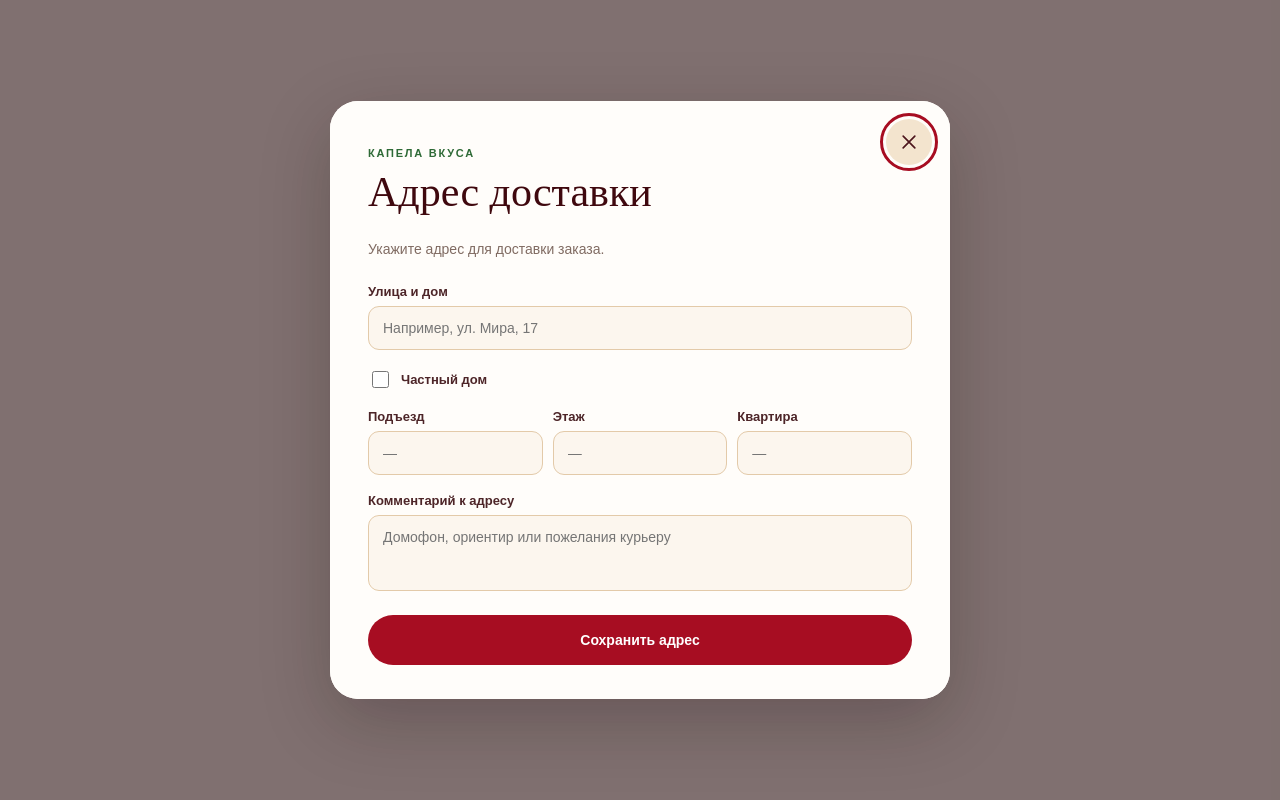
Scenario: не сохраняет адрес с буквами в подъезде и сбрасывает ошибку после исправления
This screenshot has width=1280, height=800.
Later steps or results of the test are not shown.
In the field labelled "Улица и дом": (640, 328) [368,306,912,350], type "ул. Мира, 10"
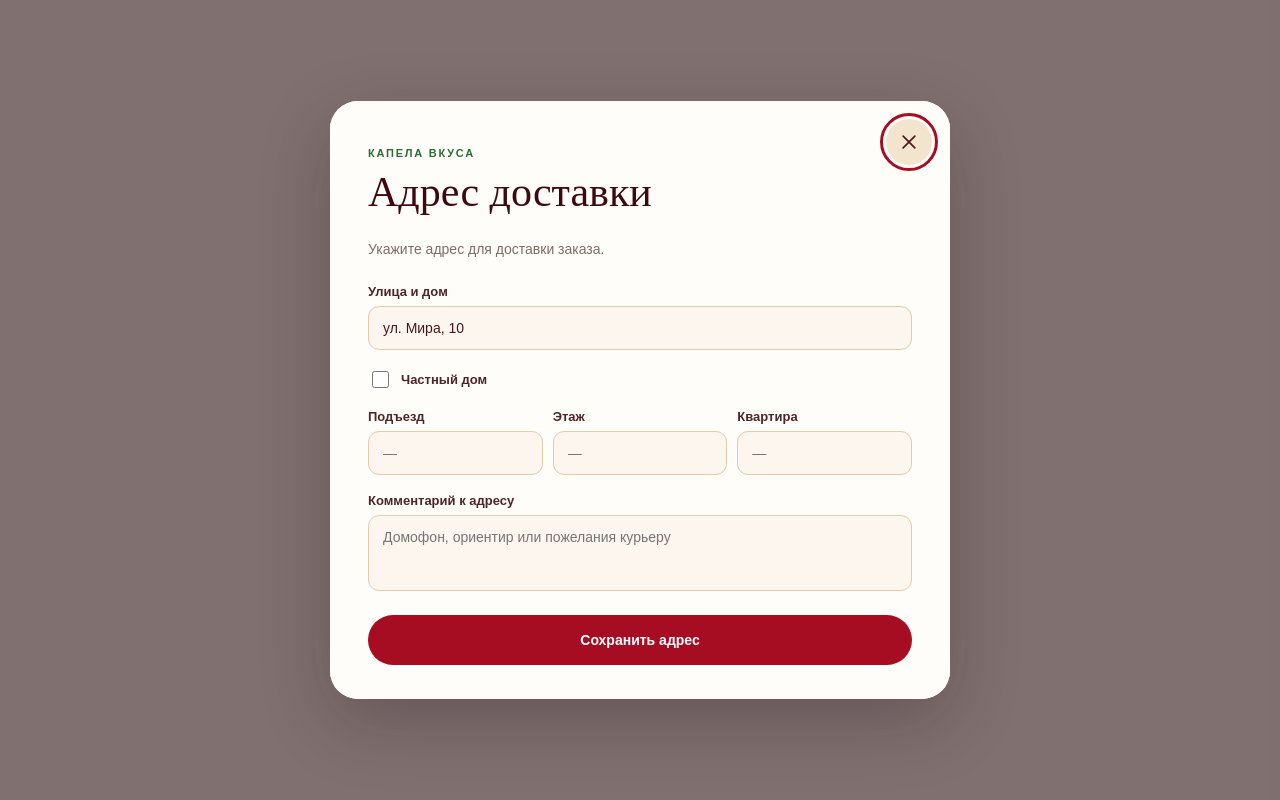
In the field labelled "Подъезд": (455, 453) [368,431,543,475], type "2а"
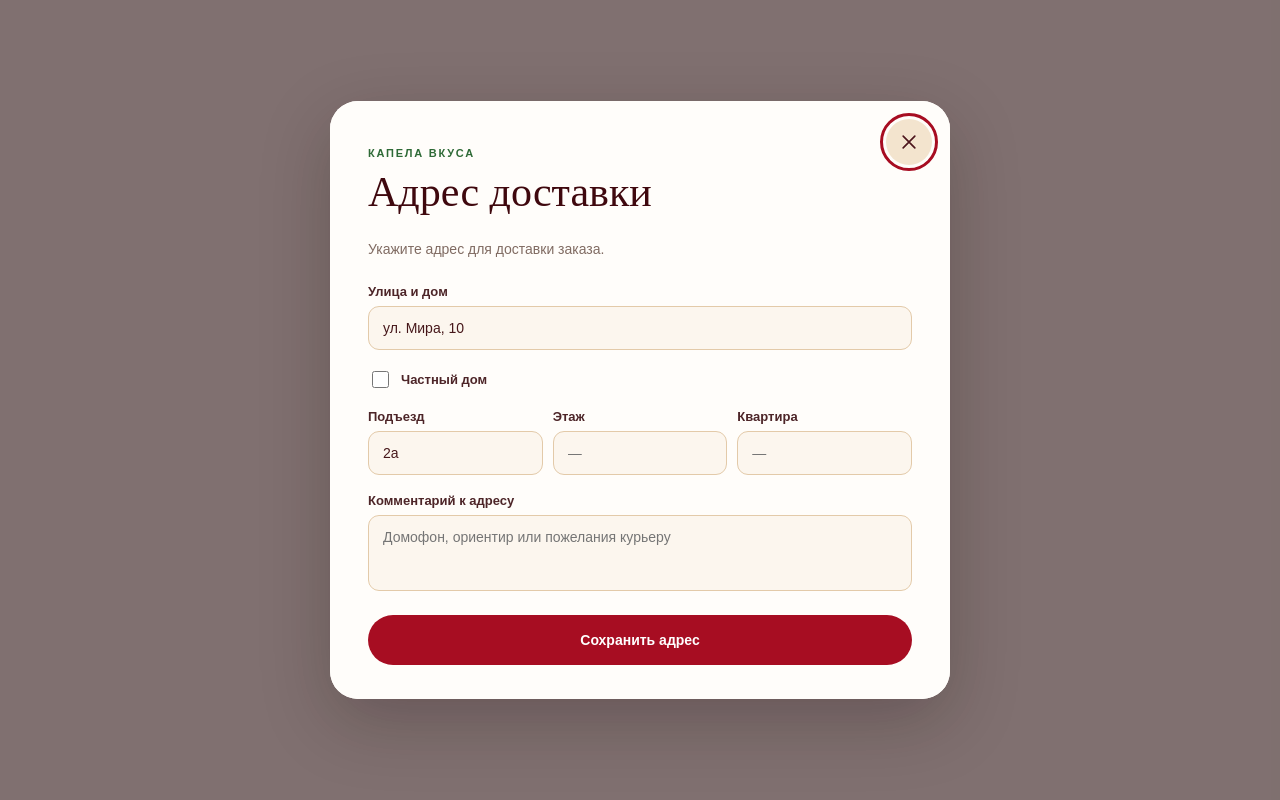
In the field labelled "Этаж": (640, 453) [553,431,727,475], type "3"
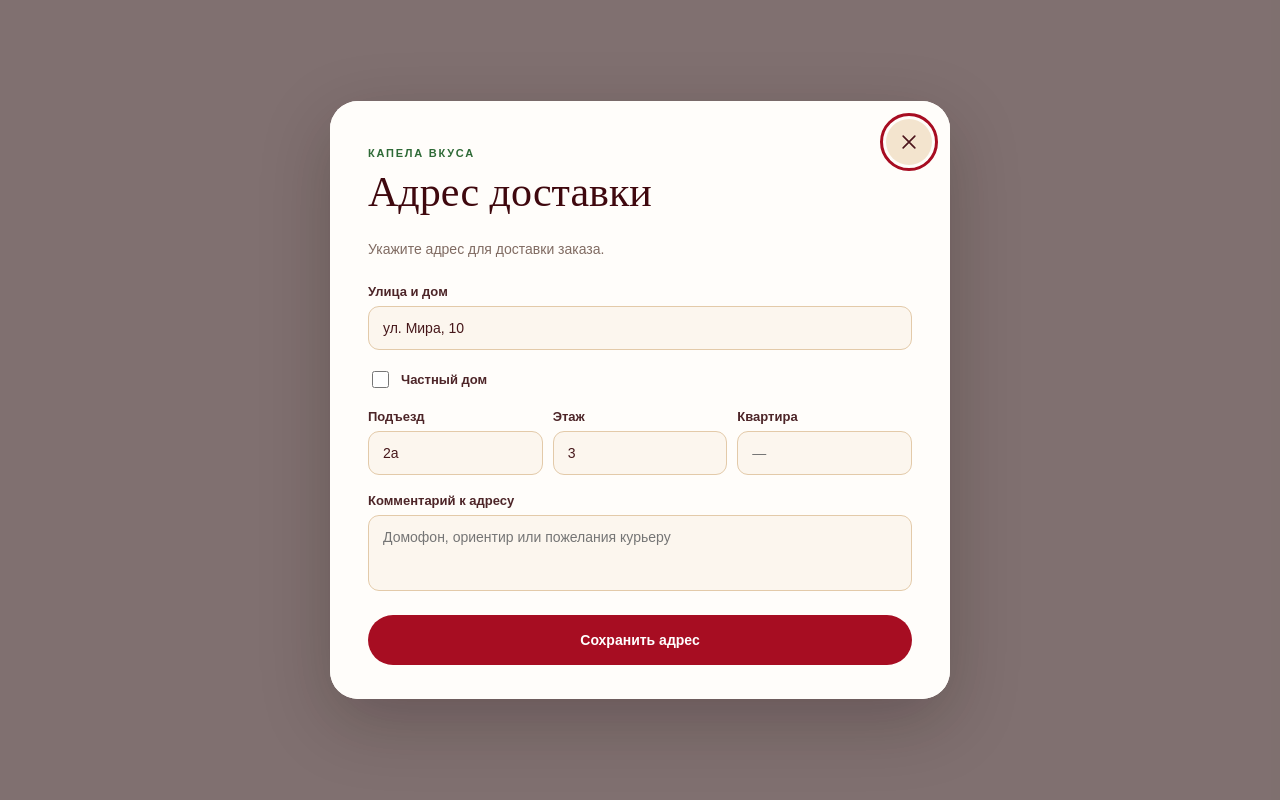
In the field labelled "Квартира": (825, 453) [737,431,912,475], type "25"
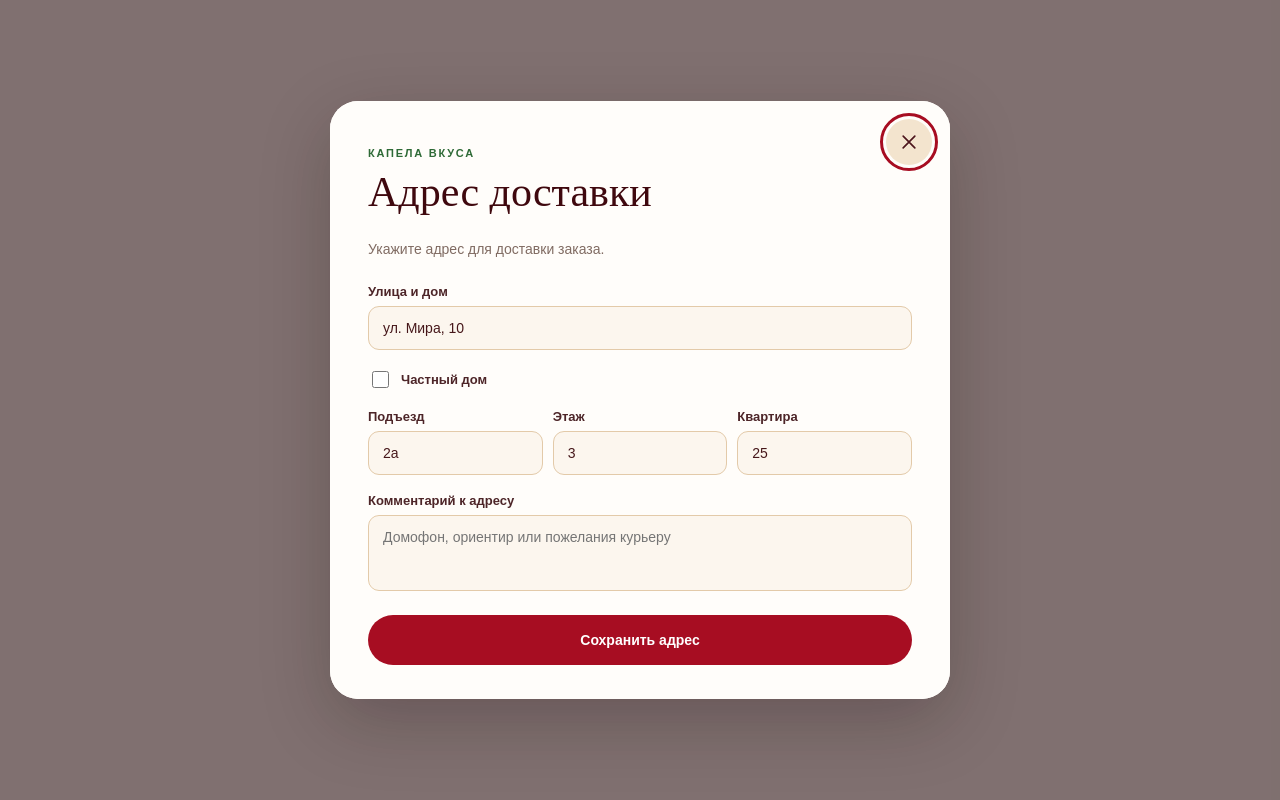
Click the button "Сохранить адрес": click(640, 640) [368,615,912,665]
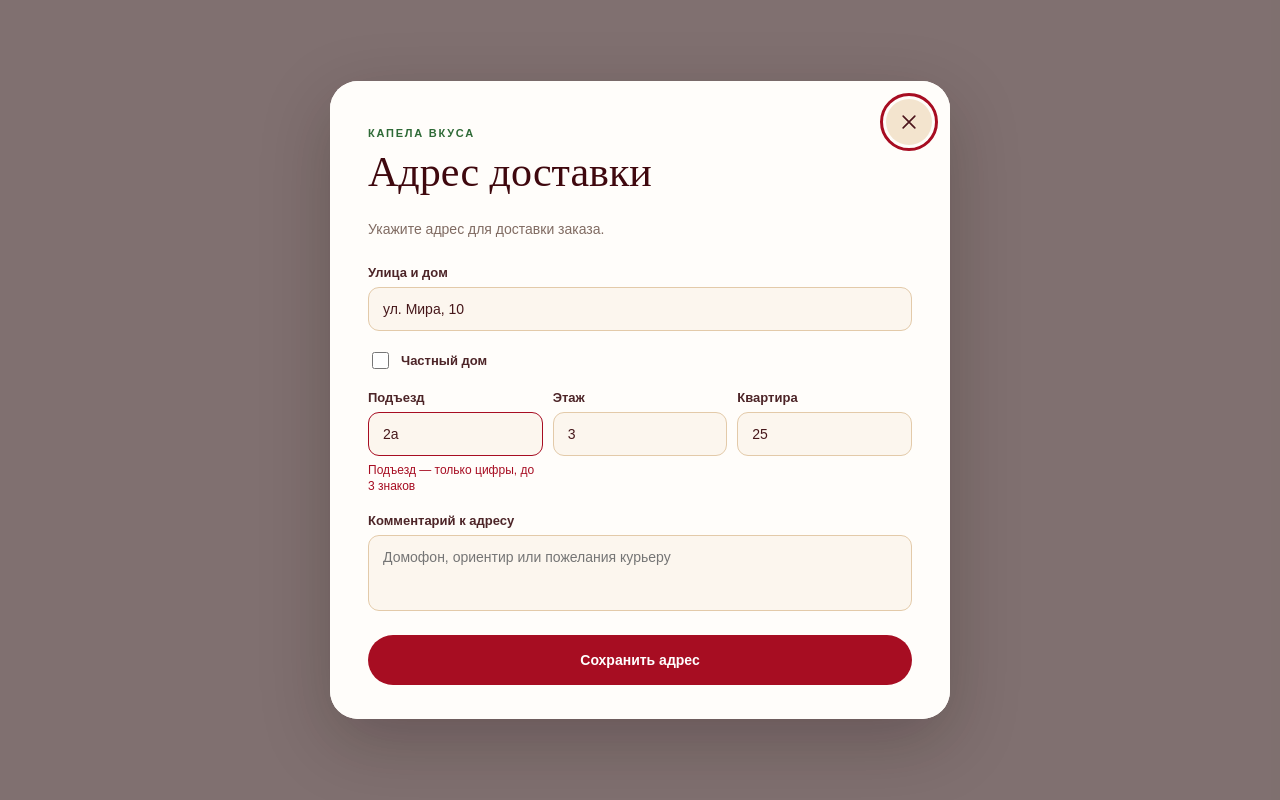
Now the message reads "Подъезд — только цифры, до 3 знаков", box [368,463,534,493]
Replace the text in the field labelled "Подъезд" with "2": (455, 434) [368,412,543,456]
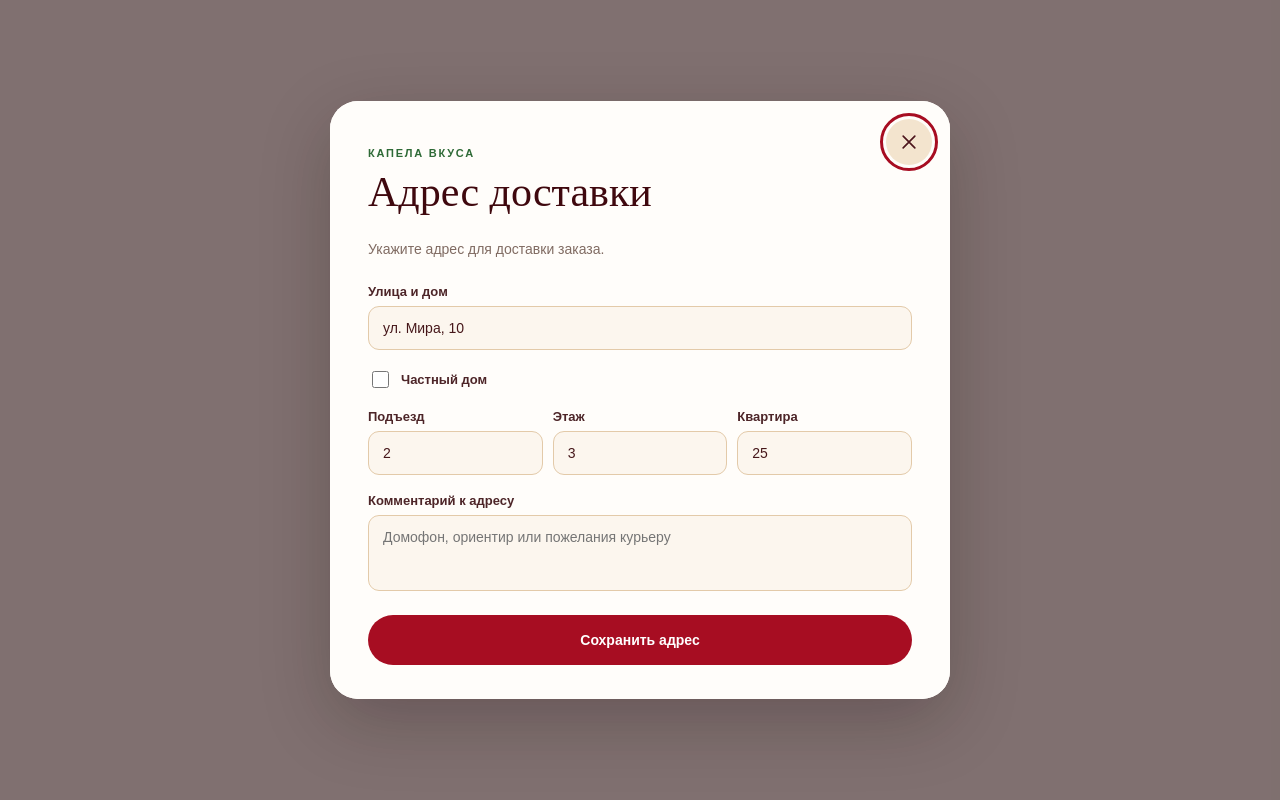
Now the message "Подъезд — только цифры, до 3 знаков" is gone
